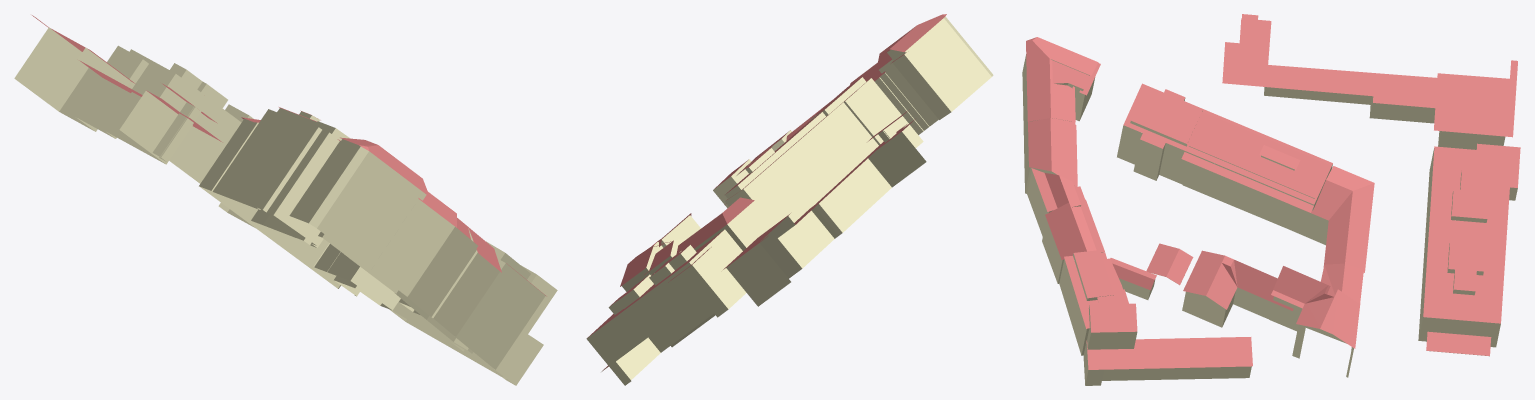
File: tile_095.glb
The picture shows the model from 3 angles, left to right: view 1: azimuth 30°, elevation 25°; view 2: azimuth 150°, elevation 25°; view 3: azimuth 270°, elevation 25°; orthographic projection. The views are drawn at different scales.
Parts seen in each view (by area): view 1: Batched_Building_ID_4E242670-A467-4FA3-AADE-A3E34858AE35, Batched_Building_ID_8EC06930-587F-4899-85FF-6425469163D6; view 2: Batched_Building_ID_4E242670-A467-4FA3-AADE-A3E34858AE35, Batched_Building_ID_8EC06930-587F-4899-85FF-6425469163D6; view 3: Batched_Building_ID_8EC06930-587F-4899-85FF-6425469163D6, Batched_Building_ID_4E242670-A467-4FA3-AADE-A3E34858AE35.
Boxes of the visible parts, bbox=[...] form: Batched_Building_ID_4E242670-A467-4FA3-AADE-A3E34858AE35: bbox=[14, 27, 557, 385]; Batched_Building_ID_8EC06930-587F-4899-85FF-6425469163D6: bbox=[32, 15, 546, 296]; Batched_Building_ID_4E242670-A467-4FA3-AADE-A3E34858AE35: bbox=[586, 16, 993, 385]; Batched_Building_ID_8EC06930-587F-4899-85FF-6425469163D6: bbox=[587, 14, 946, 370]; Batched_Building_ID_8EC06930-587F-4899-85FF-6425469163D6: bbox=[1026, 14, 1520, 369]; Batched_Building_ID_4E242670-A467-4FA3-AADE-A3E34858AE35: bbox=[1022, 54, 1517, 385].
Size of the model in its own units: 102 by 89.34 by 147.
